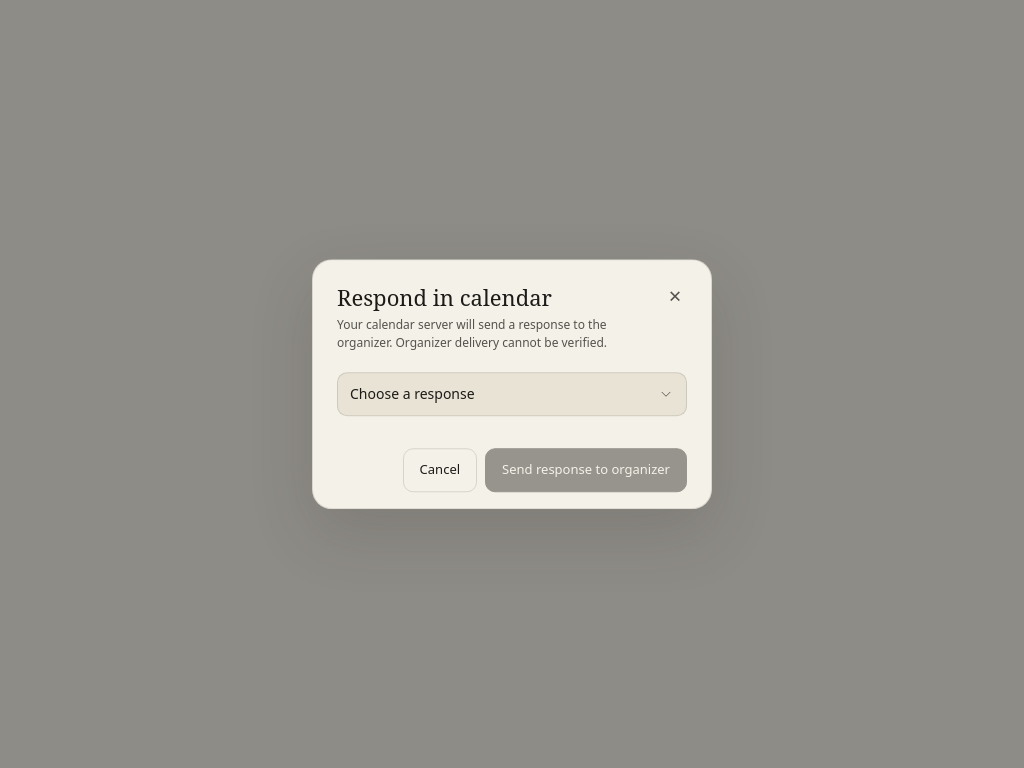
Test case: sends CalDAV's explicit server reply policy and keeps an offline retry immutable
The image size is (1024, 768).
Expected: the text "Organizer delivery cannot be verified" is shown, [337,316,607,351]
Click the dropdown named "Your response": (412, 394) [337,372,687,416]
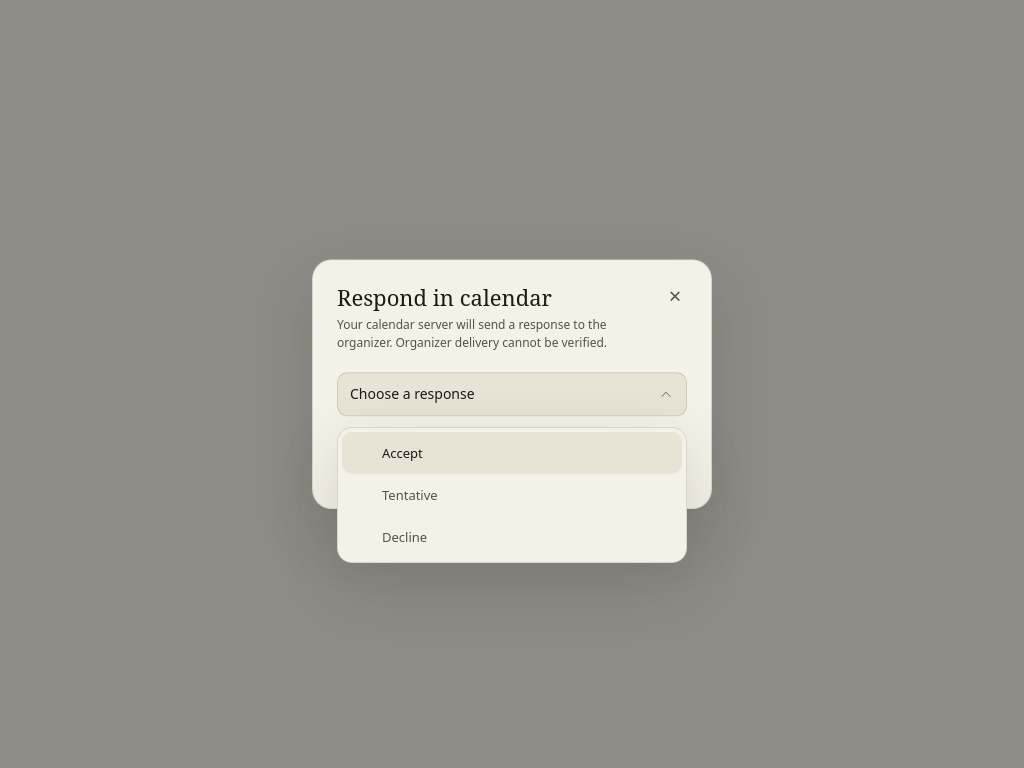
Click the option "Accept": (402, 453) [342,432,682,474]
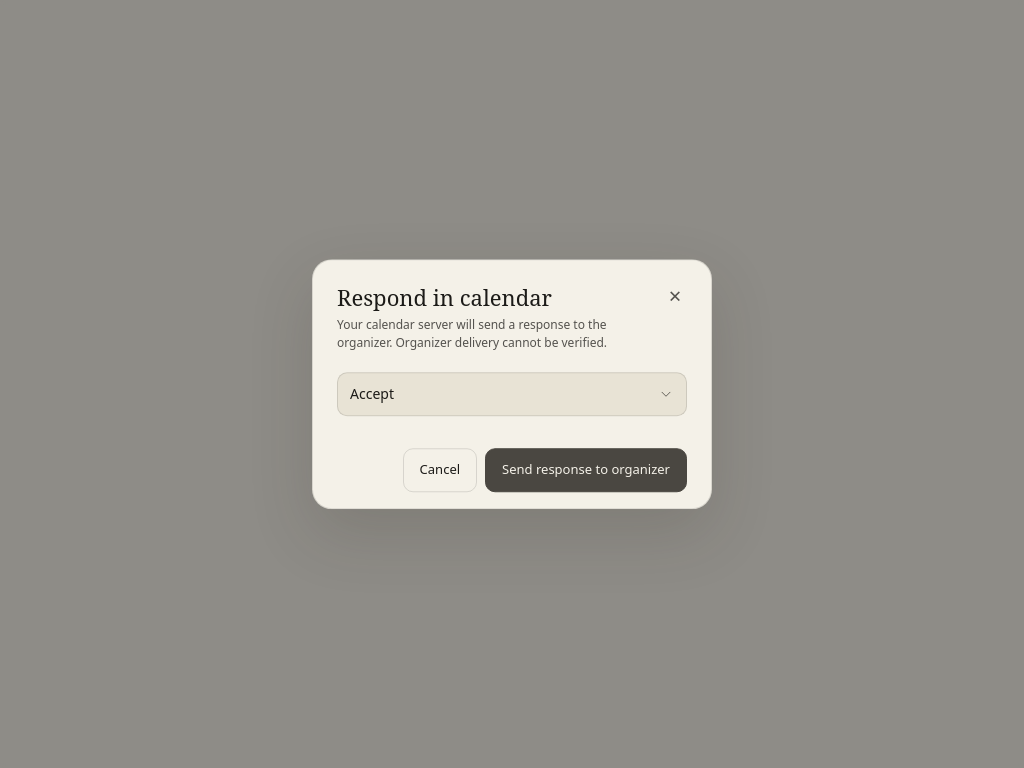
Click the button "Send response to organizer": (586, 470) [485,448,687,492]
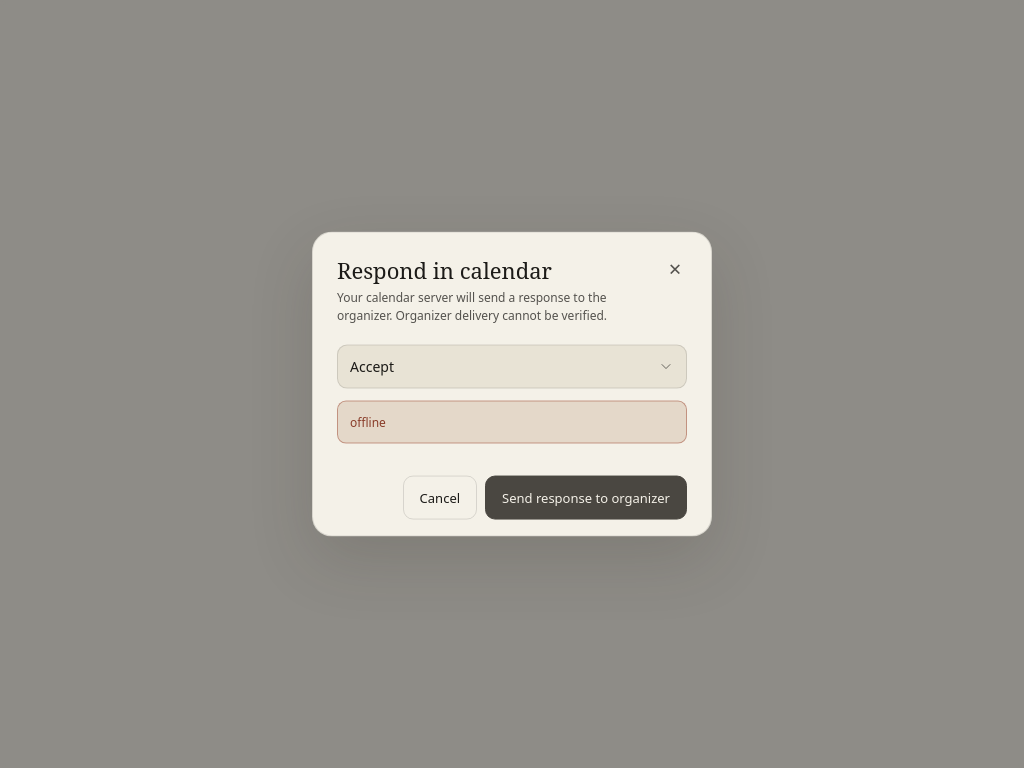
Expected: the message "offline" is shown, [337,400,687,444]
Click the button "Send response to organizer": (586, 497) [485,475,687,519]
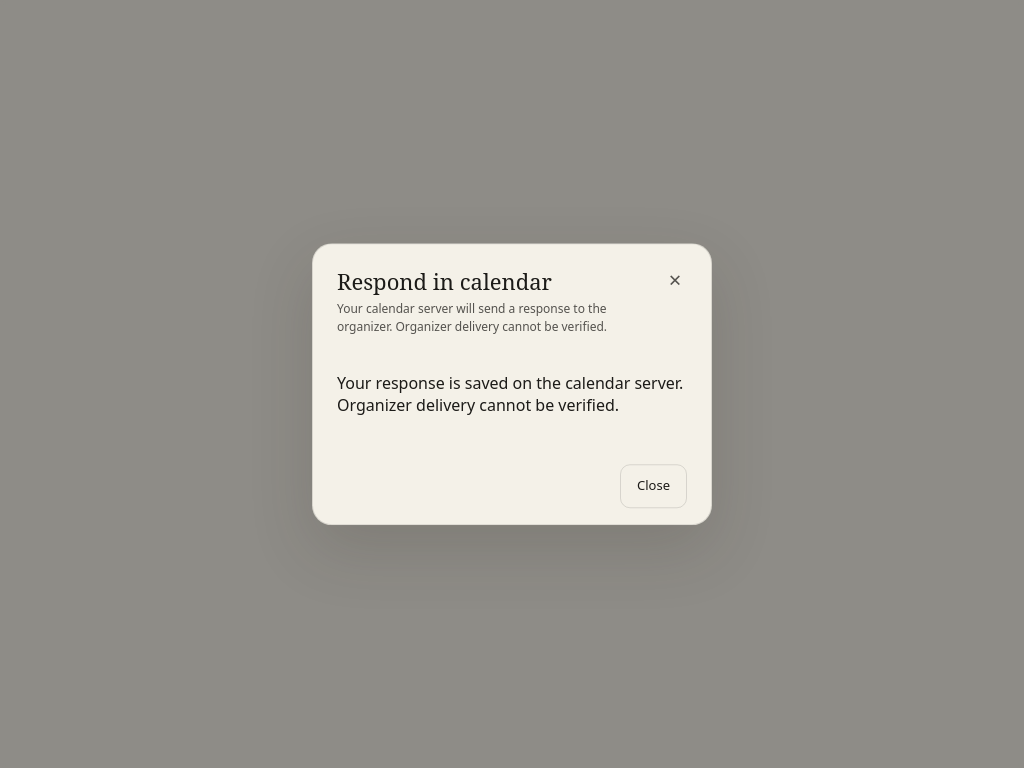
Expected: the text "Your response is saved on the calendar server" is shown, [337,372,683,416]
